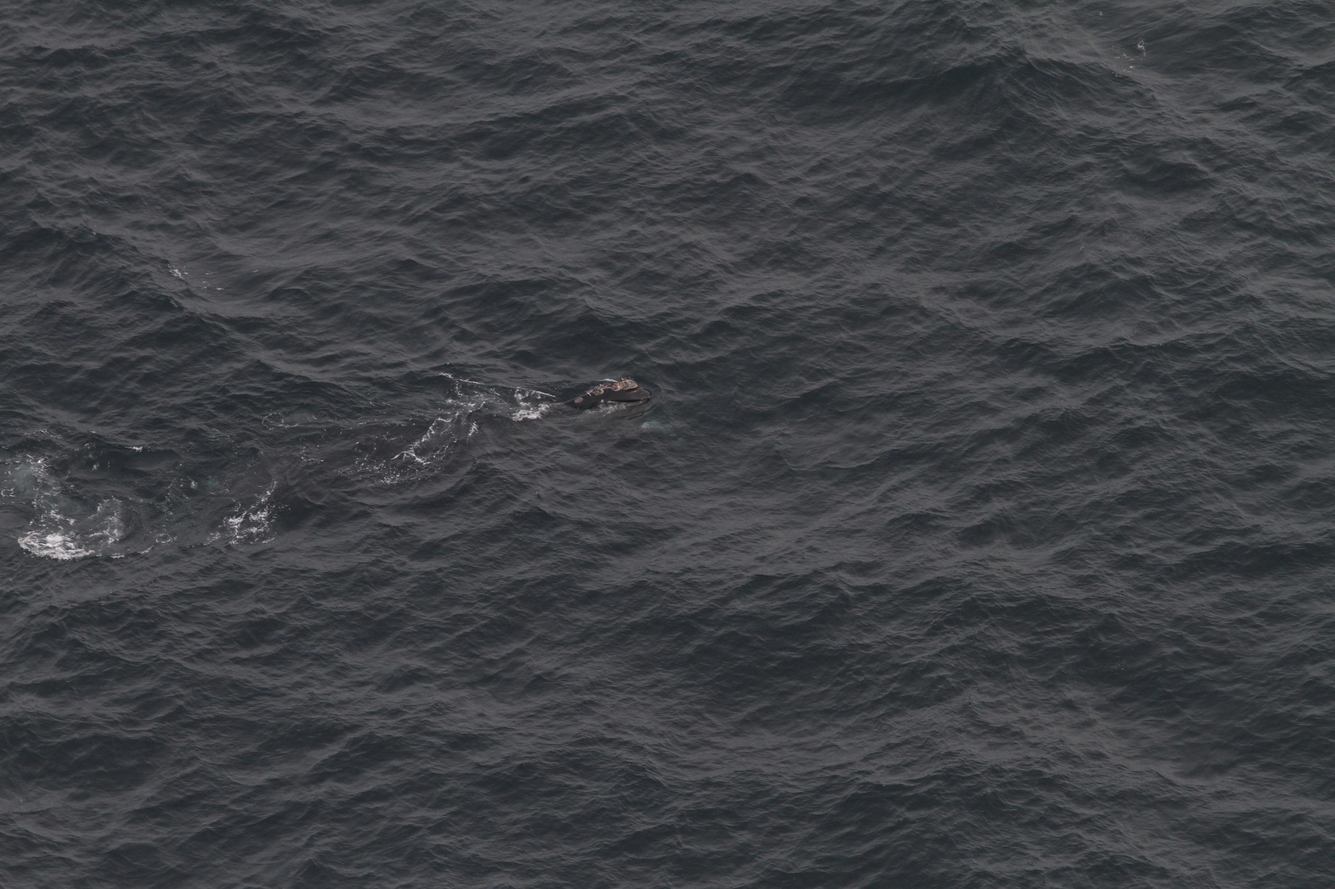whale: (162, 366, 672, 580)
